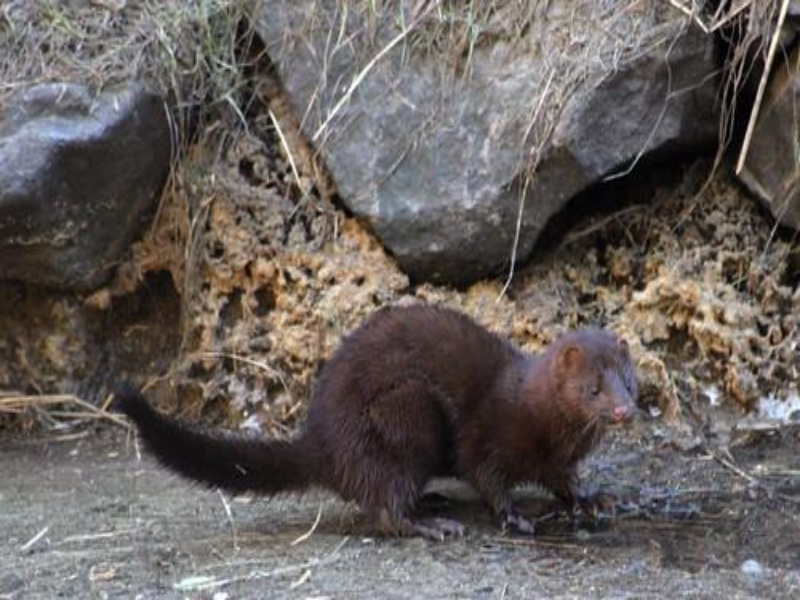minkish: (108, 304, 641, 546)
